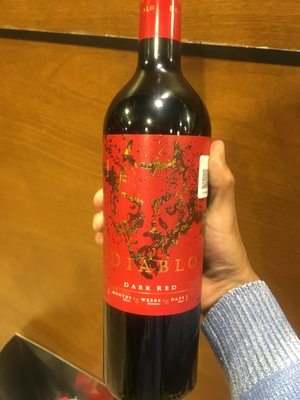diablo dark red: (94, 25, 237, 384)
